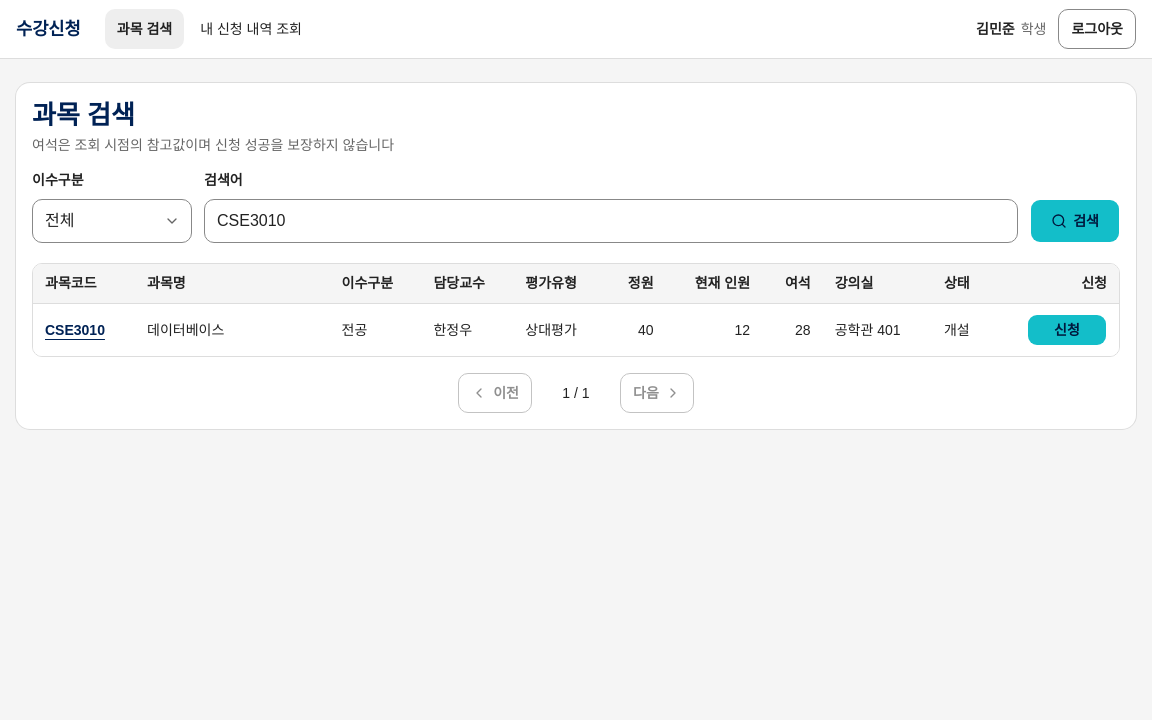
Test: T2-03 신청 티켓 폴링 도중 만료되어도 갱신 후 결과를 표시한다
Click the button "신청" at (1067, 330), box [1027, 314, 1107, 346]
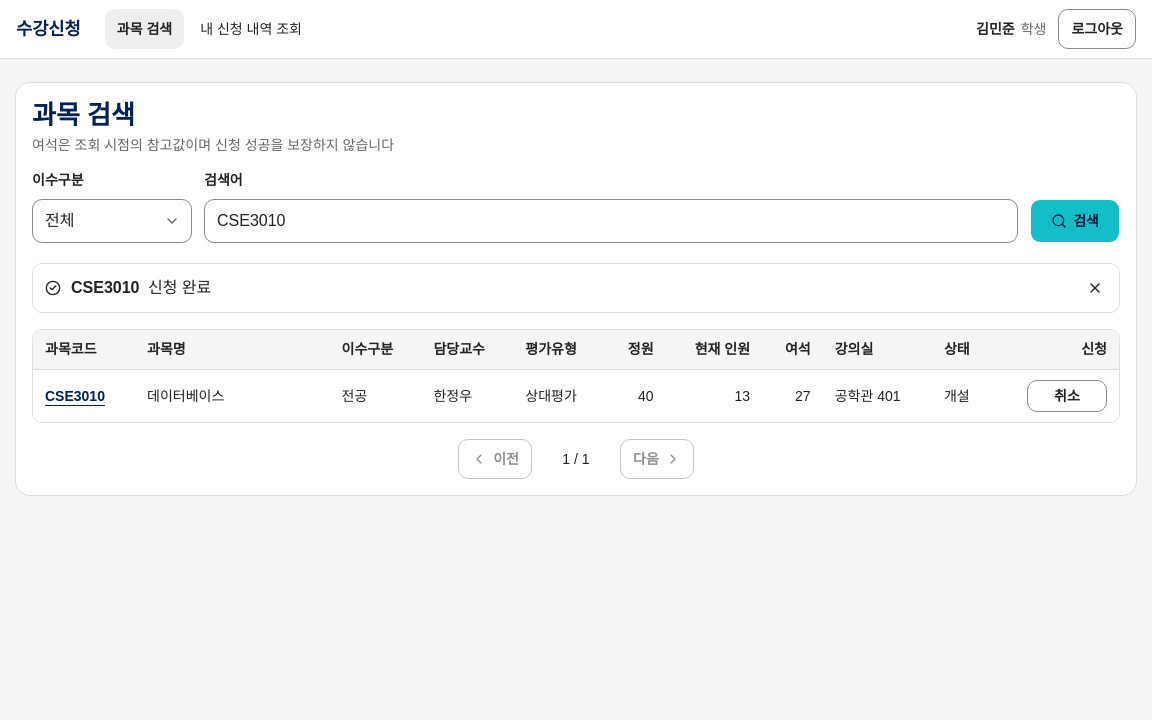
Check: the message with test id "request-outcome" shows "신청 완료", box [148, 279, 211, 296]
